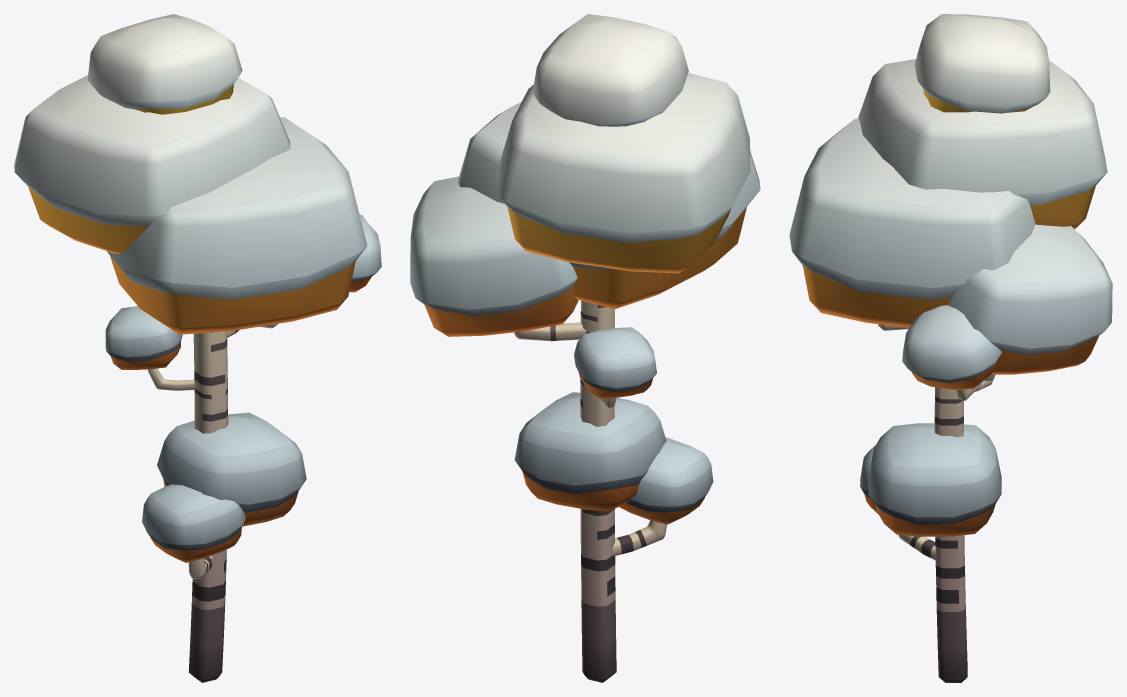
Rendered from birch_tree_col2_02_snow.fbx.
3 renders of one model, left to right at view 1: azimuth 30°, elevation 25°; view 2: azimuth 150°, elevation 25°; view 3: azimuth 270°, elevation 25°, orthographic. The views are drawn at different scales.
Parts seen in each view (by area): view 1: birch_tree_col2_02_snow; view 2: birch_tree_col2_02_snow; view 3: birch_tree_col2_02_snow.
Part boxes in pixels (<box>): birch_tree_col2_02_snow: <box>14,14,381,682</box>; birch_tree_col2_02_snow: <box>410,14,760,682</box>; birch_tree_col2_02_snow: <box>789,14,1112,682</box>.
Bounding box in the file's own units: 628 × 1218 × 556.
1 material, 1 textured.
